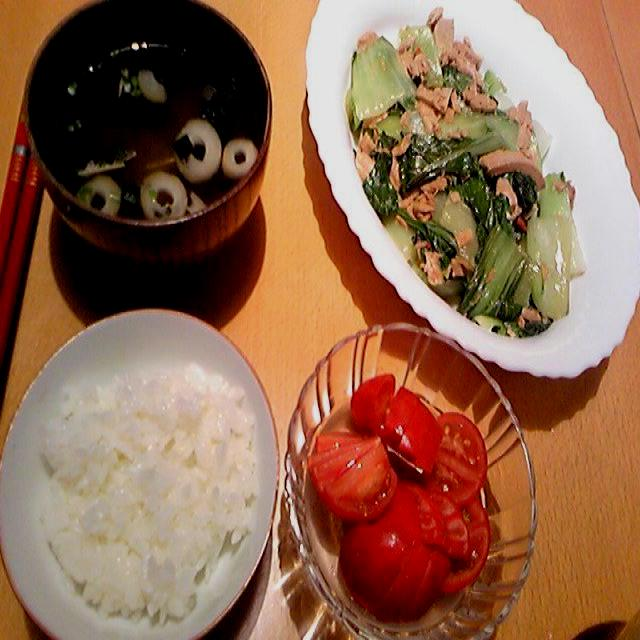Rice: (34, 348, 260, 626)
